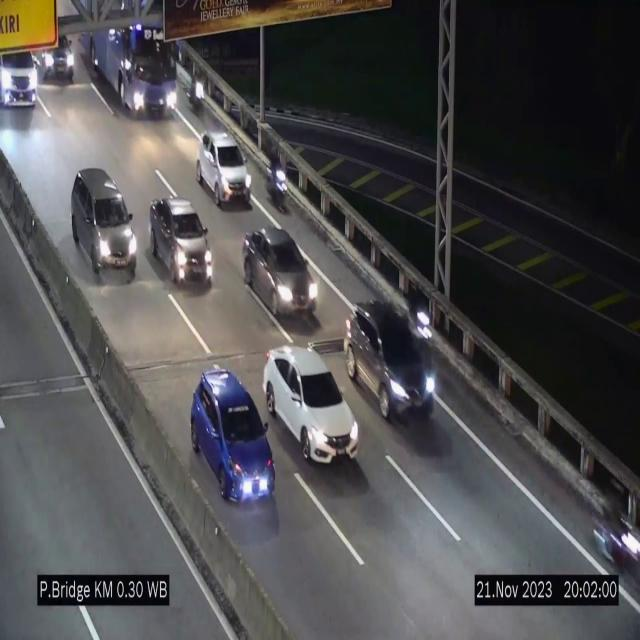Bus: (81, 27, 183, 118)
Car: (189, 366, 279, 506), (262, 342, 360, 466), (343, 299, 437, 428), (242, 223, 318, 325), (71, 167, 138, 282), (147, 194, 215, 290), (197, 127, 251, 204)
Motorcycle: (595, 473, 640, 570), (406, 276, 434, 348), (266, 146, 286, 211), (186, 61, 206, 120)
